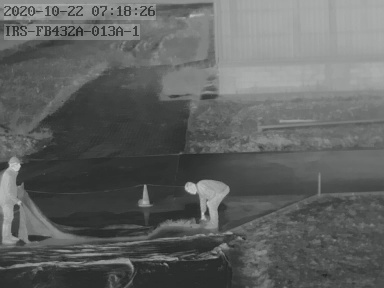person: (184, 175, 228, 232), (1, 155, 24, 246)
